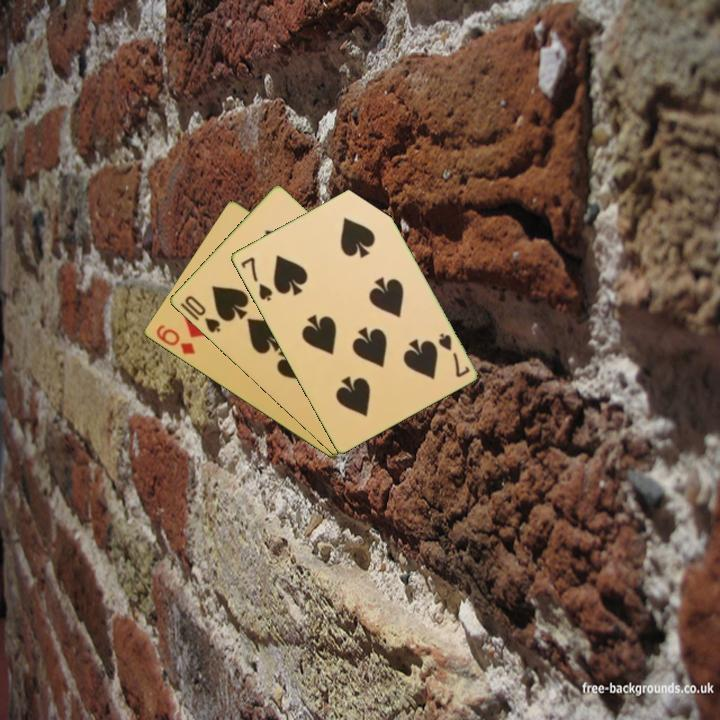10s: (181, 292, 223, 336)
6d: (152, 321, 198, 358)
7s: (237, 253, 275, 304), (434, 329, 472, 380)
